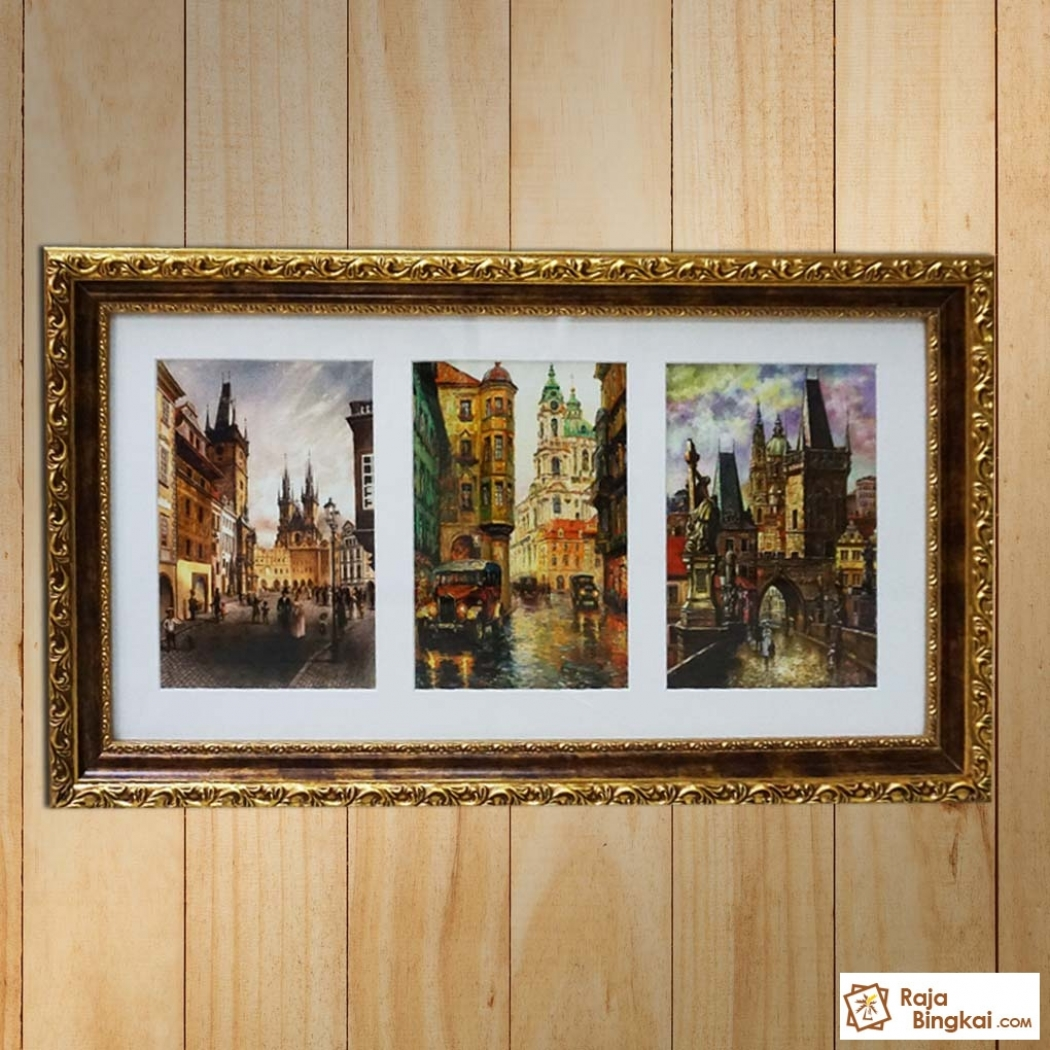lukisan: (35, 247, 1012, 830)
